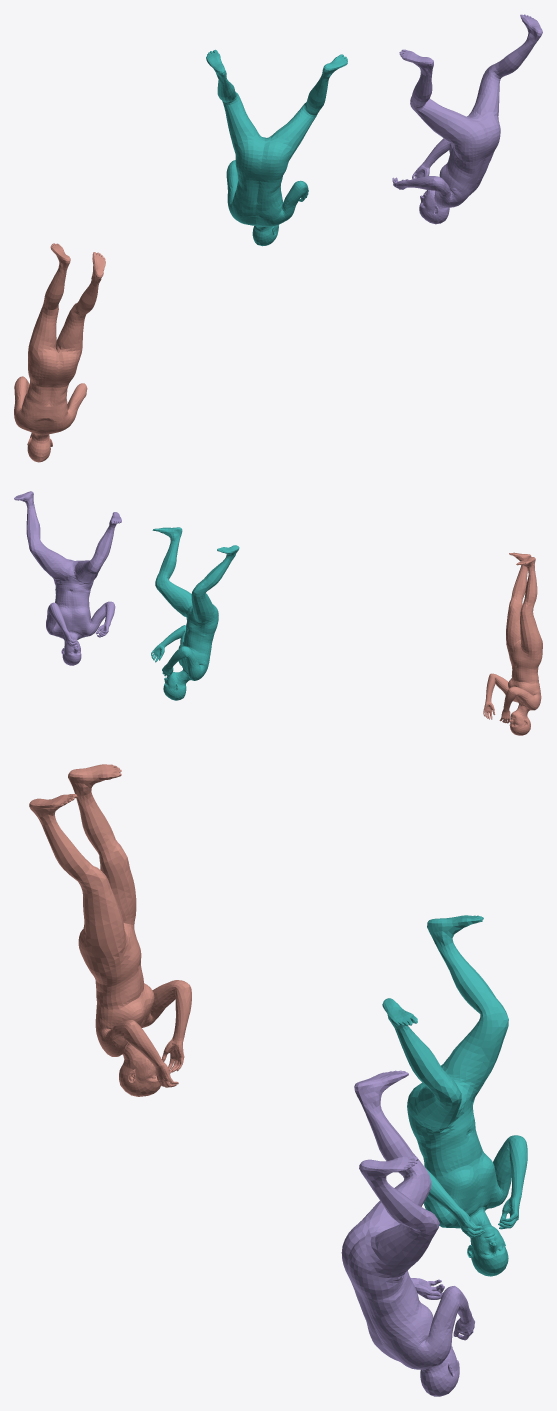
Rendered from all_people_native_world.glb.
3 renders of one model, top to bottom at view 1: azimuth 30°, elevation 25°; view 2: azimuth 150°, elevation 25°; view 3: azimuth 270°, elevation 25°, orthographic. The views are drawn at different scales.
Parts seen in each view (by area): view 1: persistent_id_2_slot_2, persistent_id_1_slot_1, persistent_id_0_slot_0; view 2: persistent_id_2_slot_2, persistent_id_1_slot_1, persistent_id_0_slot_0; view 3: persistent_id_1_slot_1, persistent_id_2_slot_2, persistent_id_0_slot_0.
Boxes of the visible parts, x1=… form: persistent_id_2_slot_2: x1=392, y1=14, x2=542, y2=224; persistent_id_1_slot_1: x1=206, y1=49, x2=347, y2=246; persistent_id_0_slot_0: x1=14, y1=243, x2=105, y2=462; persistent_id_2_slot_2: x1=14, y1=491, x2=121, y2=665; persistent_id_1_slot_1: x1=151, y1=527, x2=239, y2=700; persistent_id_0_slot_0: x1=483, y1=552, x2=542, y2=735; persistent_id_1_slot_1: x1=382, y1=915, x2=527, y2=1276; persistent_id_2_slot_2: x1=341, y1=1070, x2=474, y2=1396; persistent_id_0_slot_0: x1=29, y1=764, x2=191, y2=1096.
Size of the model in its own units: 4.69 by 1.91 by 2.21.
